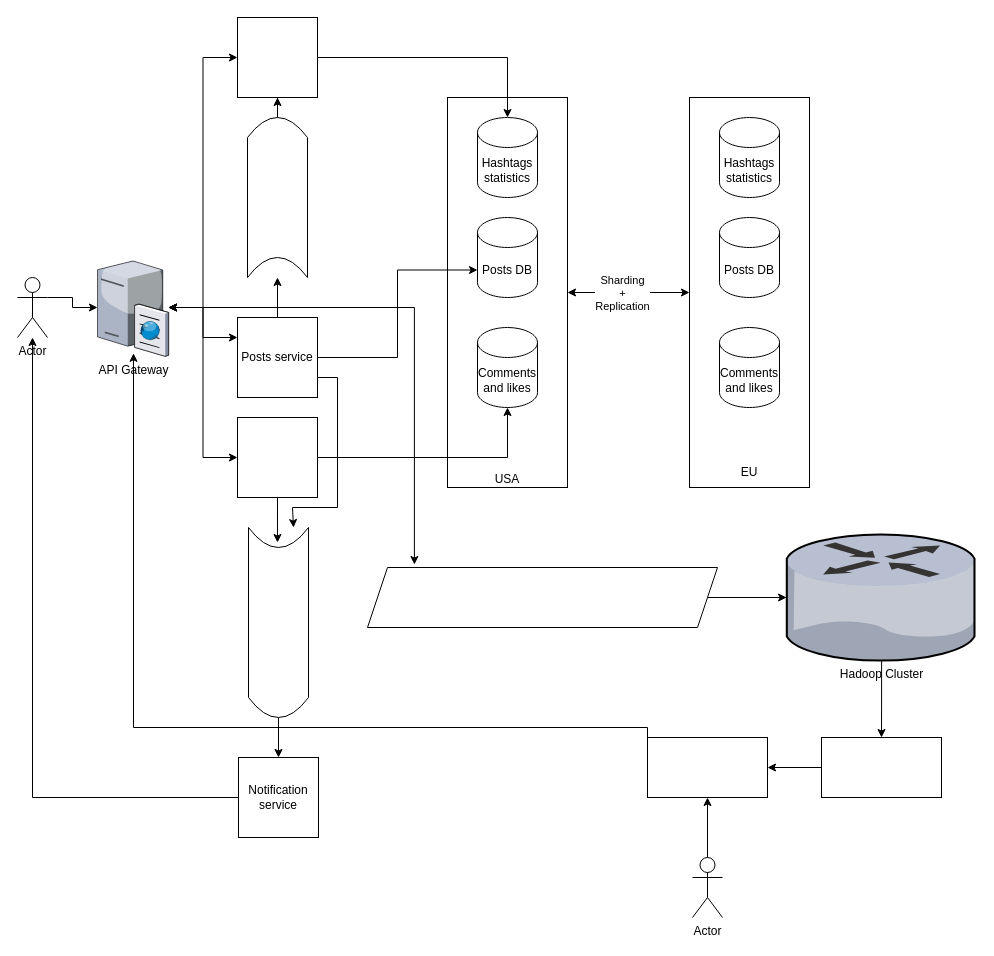
The diagram is 994 pixels wide and 956 high, and some of its shapes have lost their labels. Each missing label, with the centre of its shape:
"Advertising service" belongs at point 707,767.
"Analytics service" belongs at point 881,767.
"Comments and likes service" belongs at point 277,457.
"Event source (user actions, comments, likes, posts, visits)" belongs at point 542,597.
"Event stream (notification)" belongs at point 278,622.
"Event stream (posts)" belongs at point 277,197.
"Hashtags service" belongs at point 277,57.
